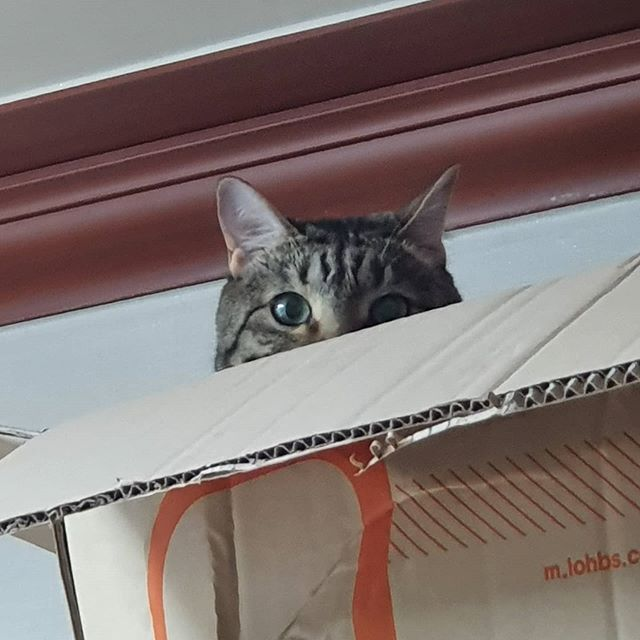cat: (207, 177, 474, 353)
